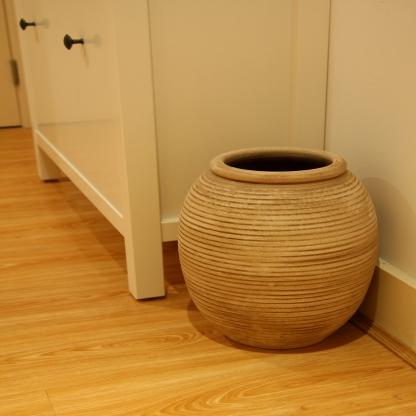vase: (177, 144, 380, 353)
